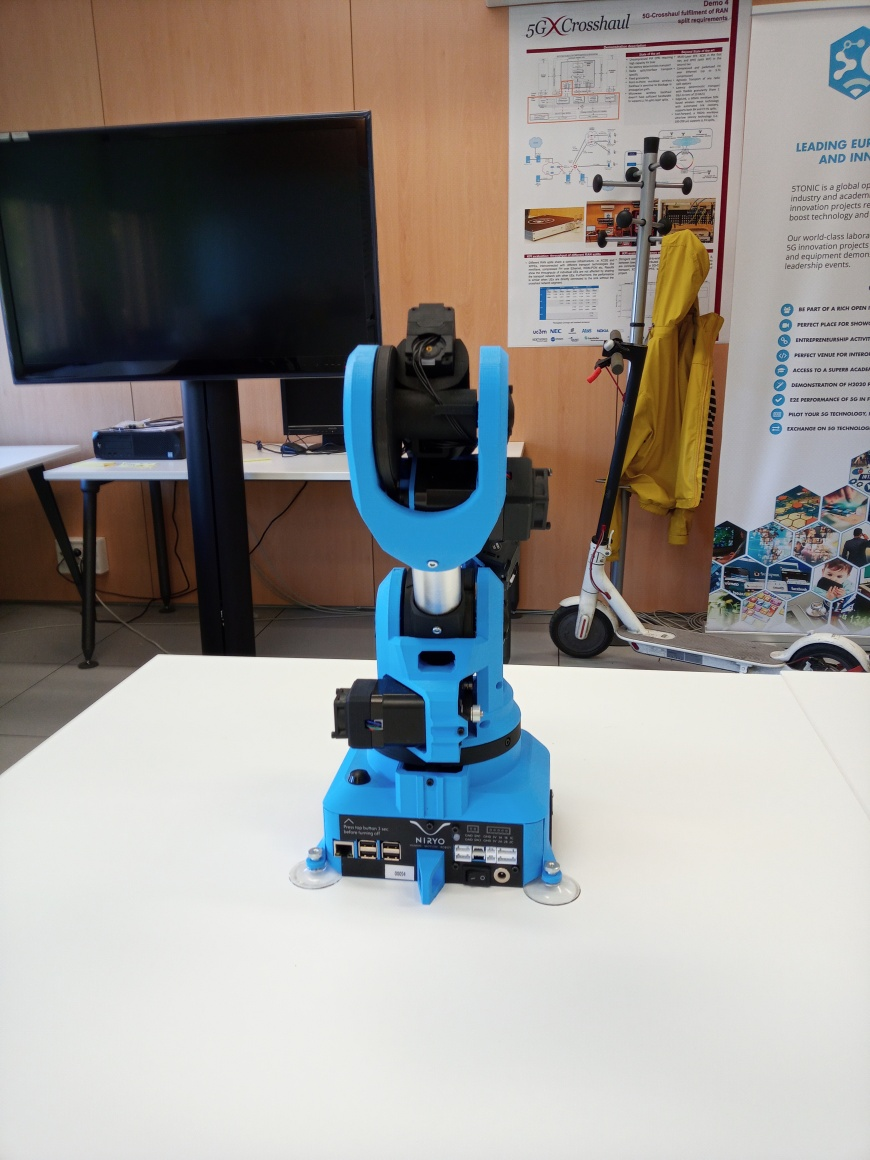robot: (288, 297, 584, 906)
